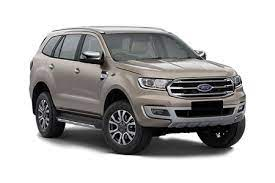Ford: (25, 23, 247, 152)
